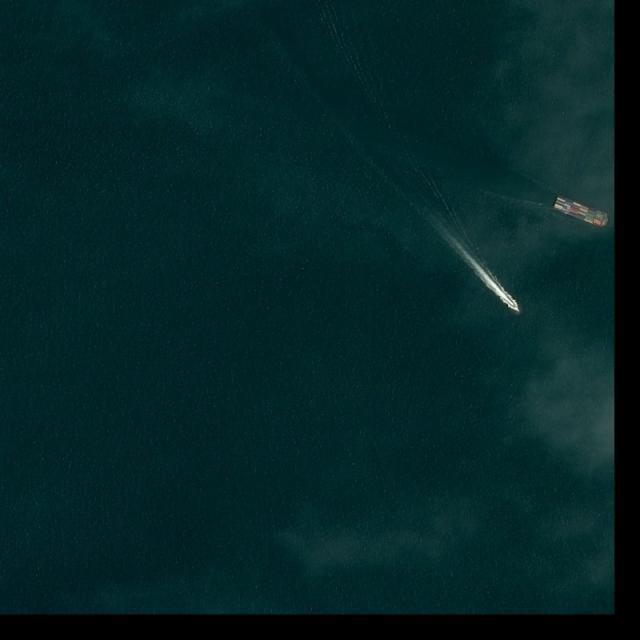ship: (553, 194, 613, 230), (512, 304, 521, 313)
